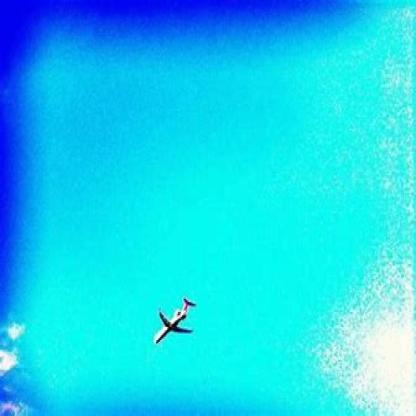plane: (147, 289, 203, 347)
